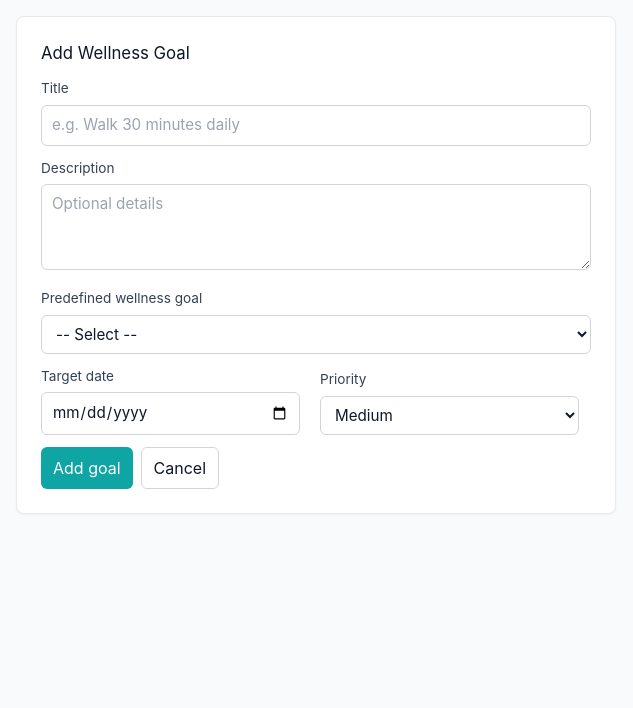
WellnessGoalsForm › shows validation error when submitting without a title
Click the button "Add goal".
click(87, 468)  # box [41,447,133,489]
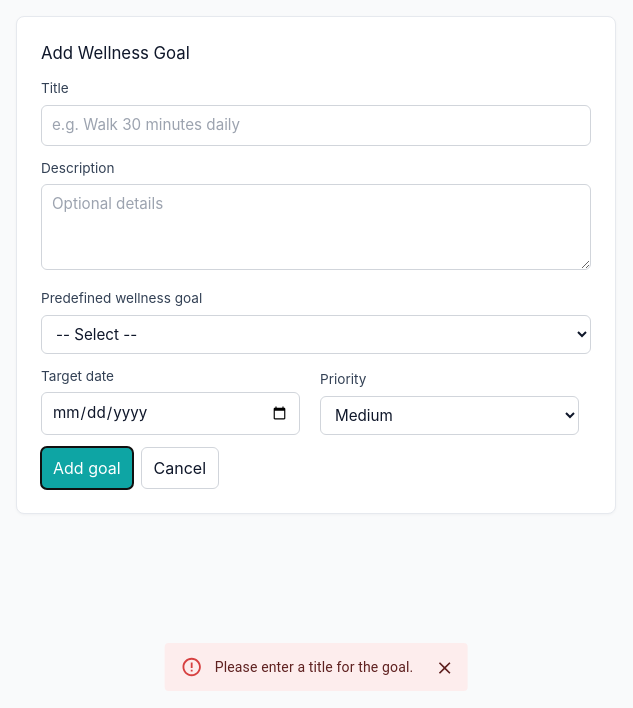
Expected: the text "Please enter a title for the goal." is shown, [215,659,413,675]
